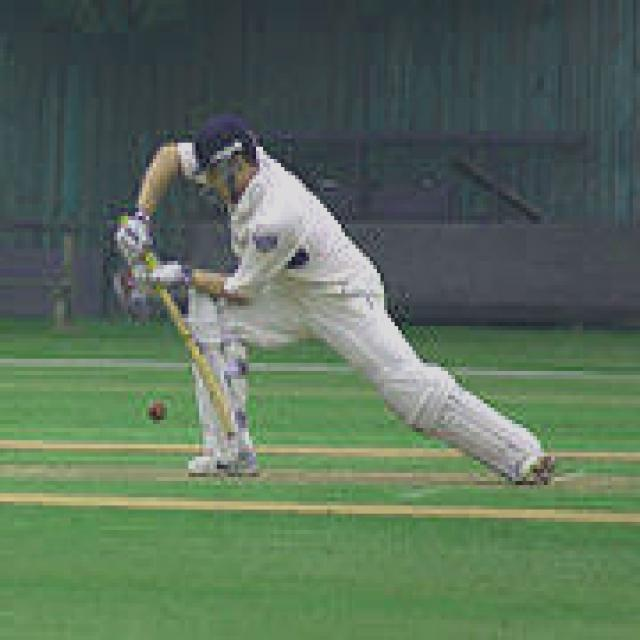bat: (146, 285, 234, 425)
